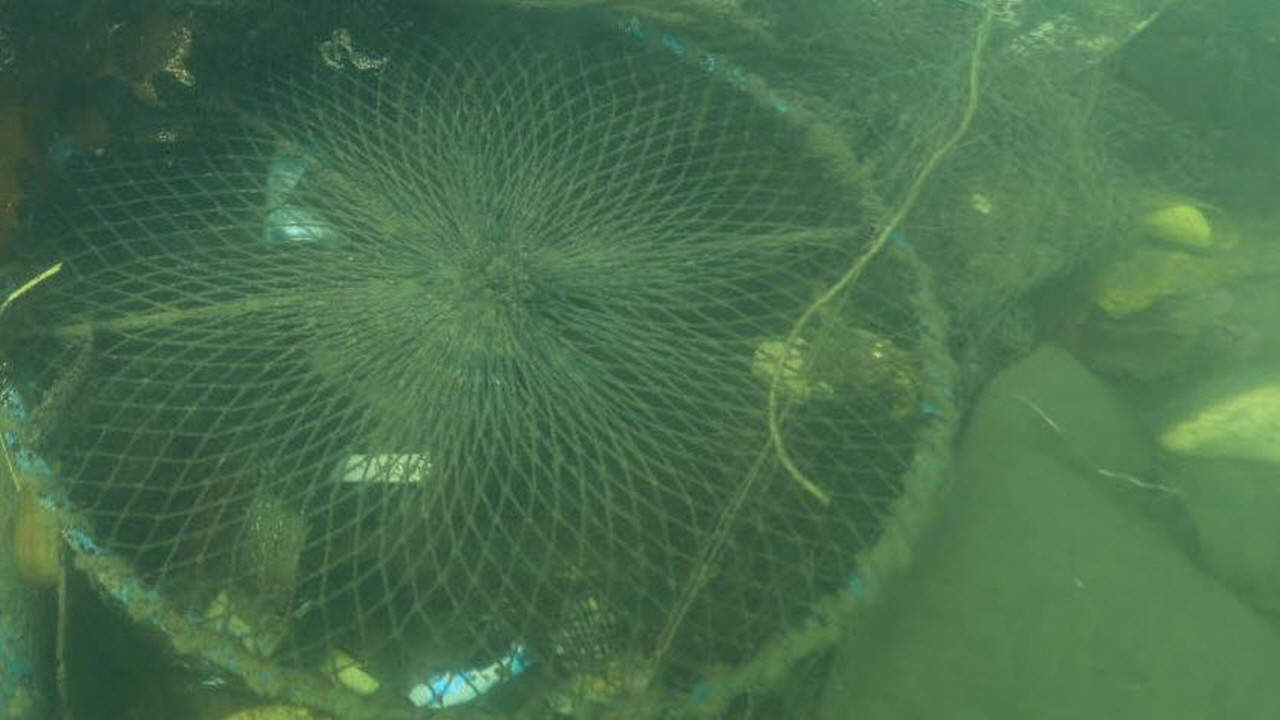circular fish trap: (0, 12, 955, 720)
